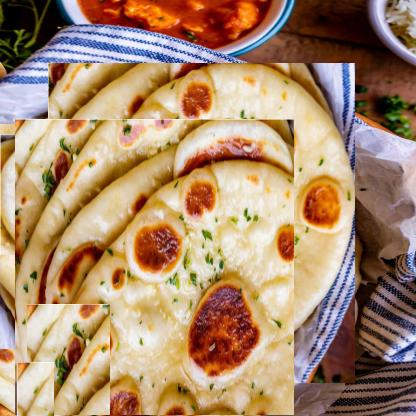naan: (45, 67, 359, 380), (7, 126, 301, 416), (6, 105, 268, 367), (13, 317, 123, 416), (0, 134, 59, 255), (8, 370, 62, 416)
